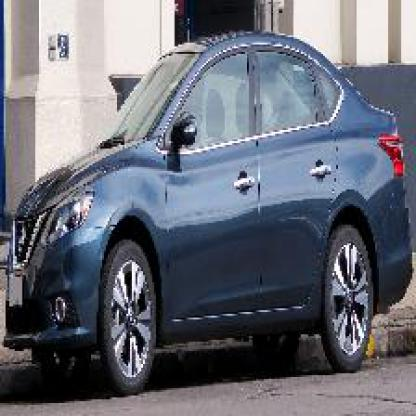not_emergency: (17, 35, 408, 400)
